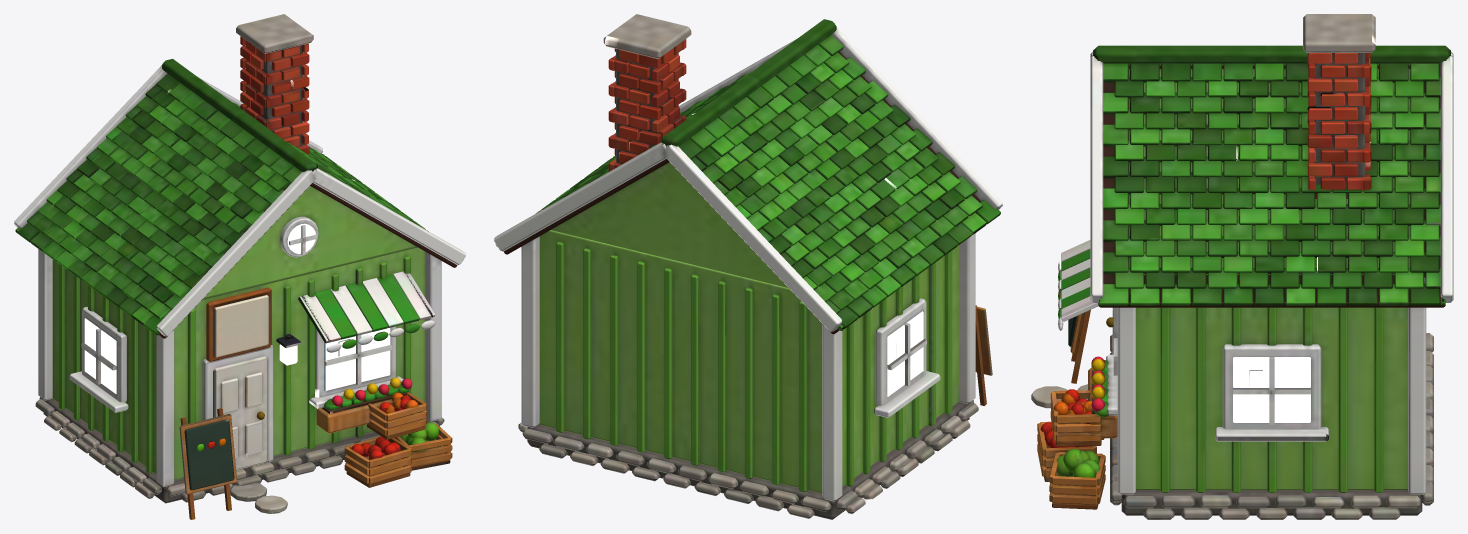
Rendered from salad_bar.glb.
The picture shows the model from 3 angles, left to right: view 1: azimuth 30°, elevation 25°; view 2: azimuth 150°, elevation 25°; view 3: azimuth 270°, elevation 25°; orthographic projection. The views are drawn at different scales.
Parts seen in each view (by area): view 1: salad_bar; view 2: salad_bar; view 3: salad_bar.
Part boxes in pixels (x1=…): salad_bar: x1=14, y1=14, x2=465, y2=519; salad_bar: x1=494, y1=14, x2=1002, y2=519; salad_bar: x1=1031, y1=14, x2=1453, y2=519.
Bounding box in the file's own units: 1.69 × 1.9 × 1.63.
Materials: 1 (1 with a texture image).
